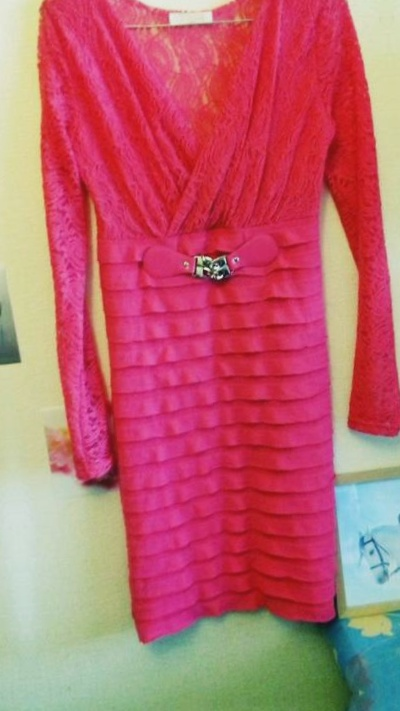Dress: (0, 0, 400, 690), (0, 0, 13, 711), (397, 0, 400, 657)
